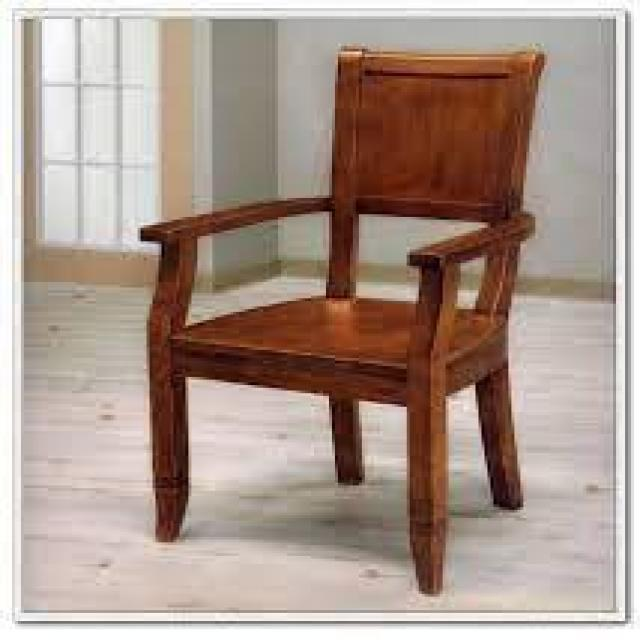chair: (115, 26, 564, 571)
